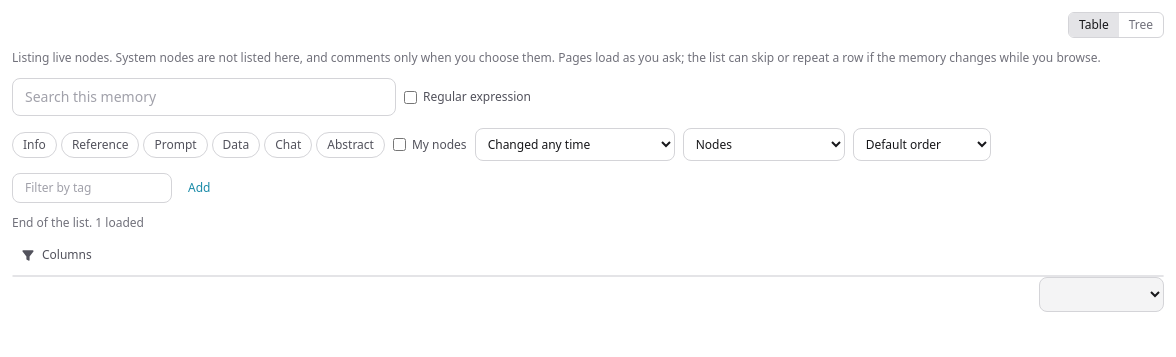
Scenario: regex mode and the scope-aware empty states (#2706 PR 2) › an empty regex search says it without echoing the pattern
This screenshot has width=1176, height=357.
Click the checkbox labelled "Regular expression". click: (410, 97)
box: [404, 90, 417, 104]
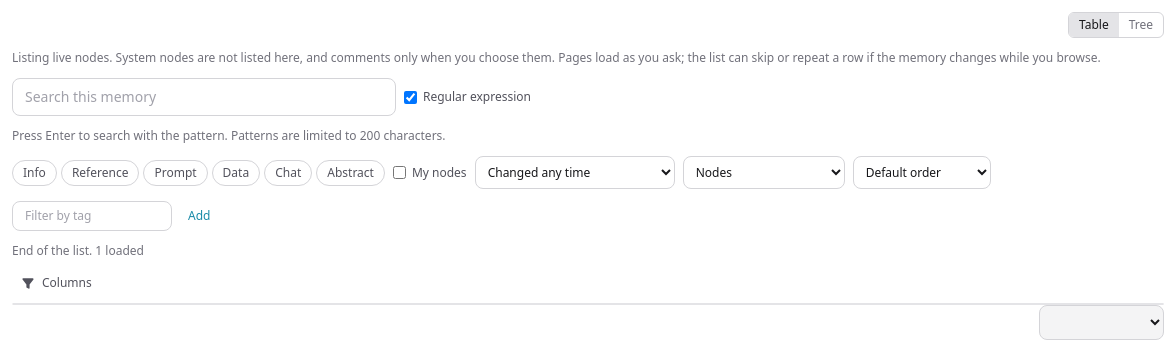
Type "SECRET.x" into the search field with test id "nodes-search". click: (204, 97)
box: [12, 78, 396, 116]
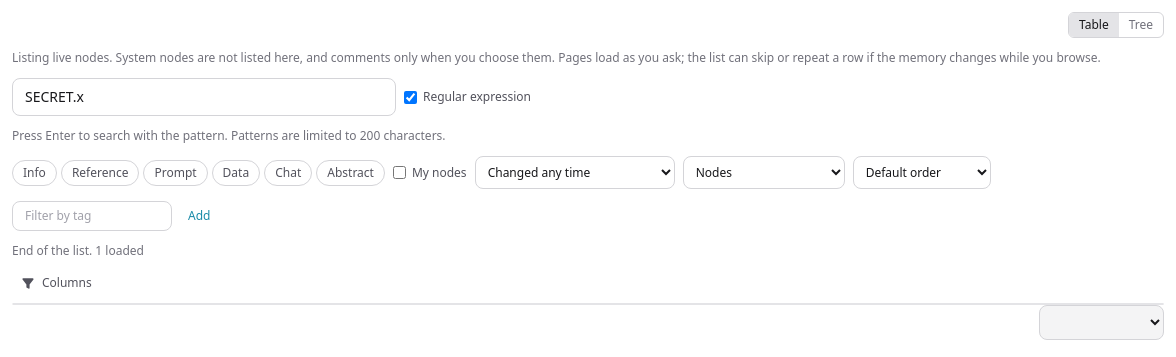
Press Enter in the search field with test id "nodes-search", box [12, 78, 396, 116]
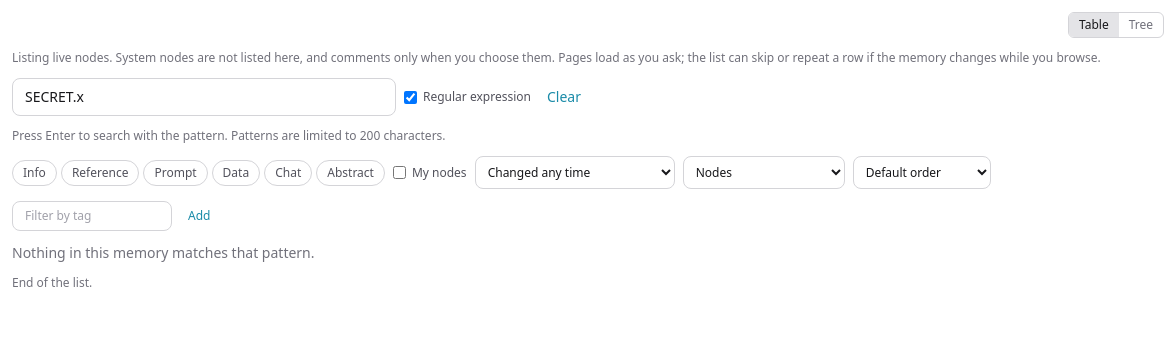
Expected: the text "SECRET" is not shown
Expected: the text "Nothing in this memory matches that pattern" is shown, [12, 243, 314, 262]
